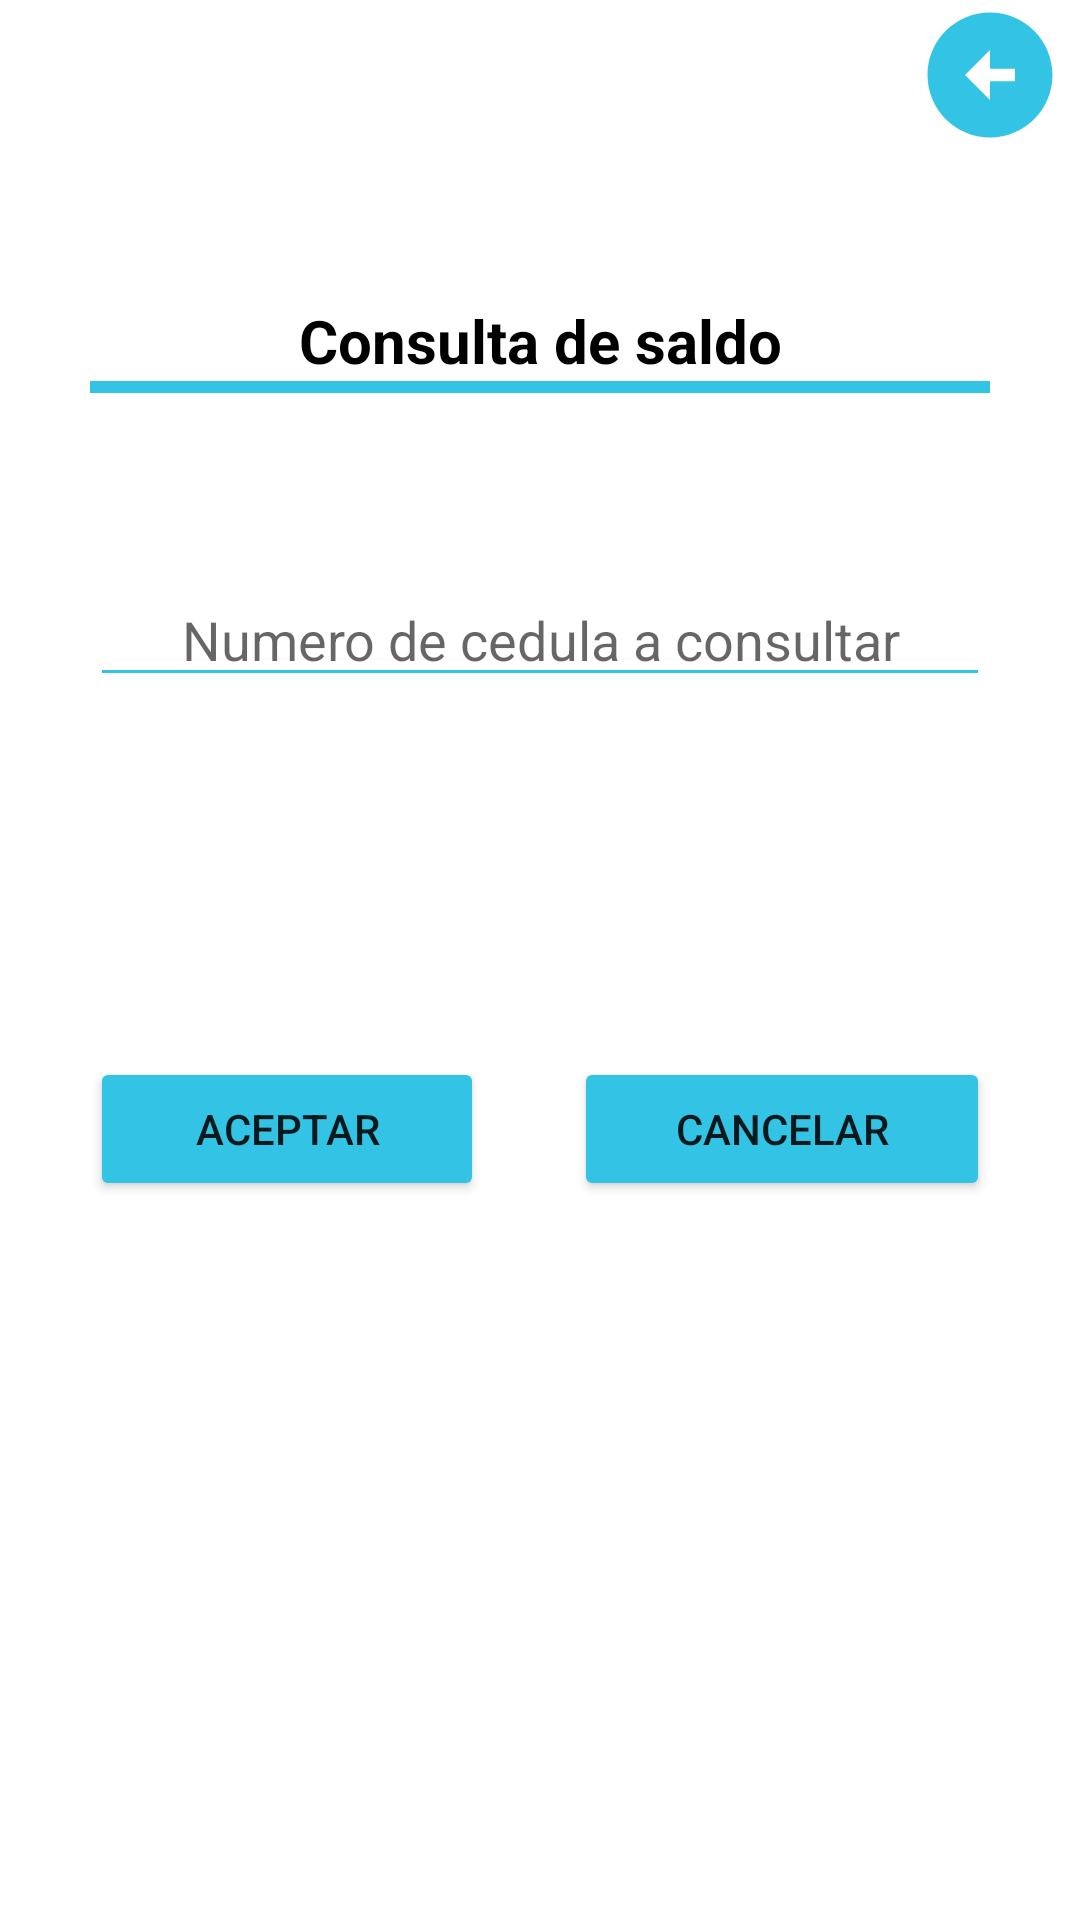

Screen size 1080×1920. Icon name, then its box in pixels as (x1, y1, x2, y2):
arrow circle left: (927, 12, 1053, 138)
